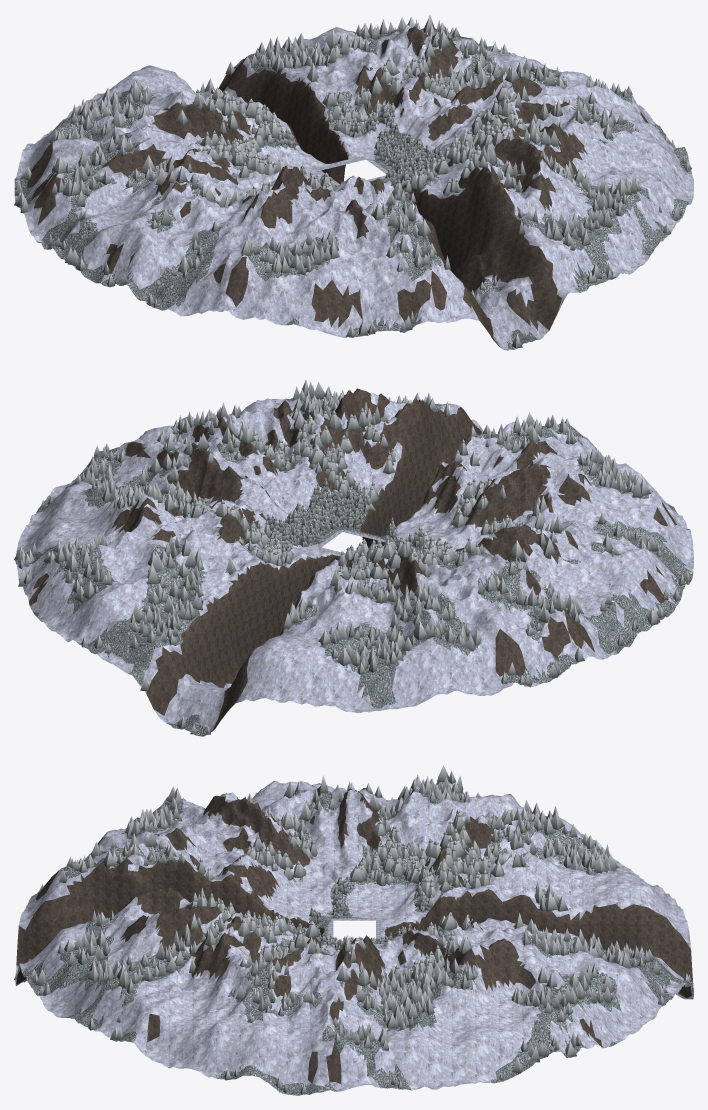
The model's file is backdrop_near_rect_waste_winter.glb.
3 views of the same model, one above another, from view 1: azimuth 30°, elevation 25°; view 2: azimuth 150°, elevation 25°; view 3: azimuth 270°, elevation 25° (orthographic).
Parts seen in each view (by area): view 1: near_land_S, near_land_W, near_land_E, near_land_N, trees_land_S_0, trees_land_W_0, trees_land_E_0, trees_land_N_0; view 2: near_land_N, near_land_W, near_land_E, near_land_S, trees_land_N_0, trees_land_E_0, trees_land_W_0, trees_land_S_0; view 3: near_land_E, near_land_S, near_land_N, near_land_W, trees_land_E_0, trees_land_N_0, trees_land_W_0, trees_land_S_0.
Boxes of the visible parts, x1,y1,x2,y2 form: near_land_S: (265,126,682,350); near_land_W: (14,102,336,319); near_land_E: (363,26,693,217); near_land_N: (26,24,426,184); trees_land_S_0: (274,125,680,348); trees_land_W_0: (14,89,323,307); trees_land_E_0: (373,20,691,215); trees_land_N_0: (76,15,435,147); near_land_N: (27,513,441,736); near_land_W: (393,463,693,695); near_land_E: (15,398,346,594); near_land_S: (275,388,678,548); trees_land_N_0: (54,505,426,734); trees_land_E_0: (14,397,342,586); trees_land_W_0: (383,474,691,686); trees_land_S_0: (293,379,640,538); near_land_E: (116,916,594,1095); near_land_S: (15,817,332,1040); near_land_N: (380,820,693,1048); near_land_W: (153,779,593,921); trees_land_E_0: (116,912,581,1094); trees_land_N_0: (404,812,692,1004); trees_land_W_0: (148,765,558,916); trees_land_S_0: (14,809,322,1041).
Size of the model in its own units: 579 by 168 by 577.
Materials: 4 (3 with a texture image).
